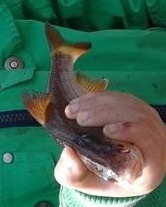Scardinius erythrophthalmus: (20, 20, 146, 187)
